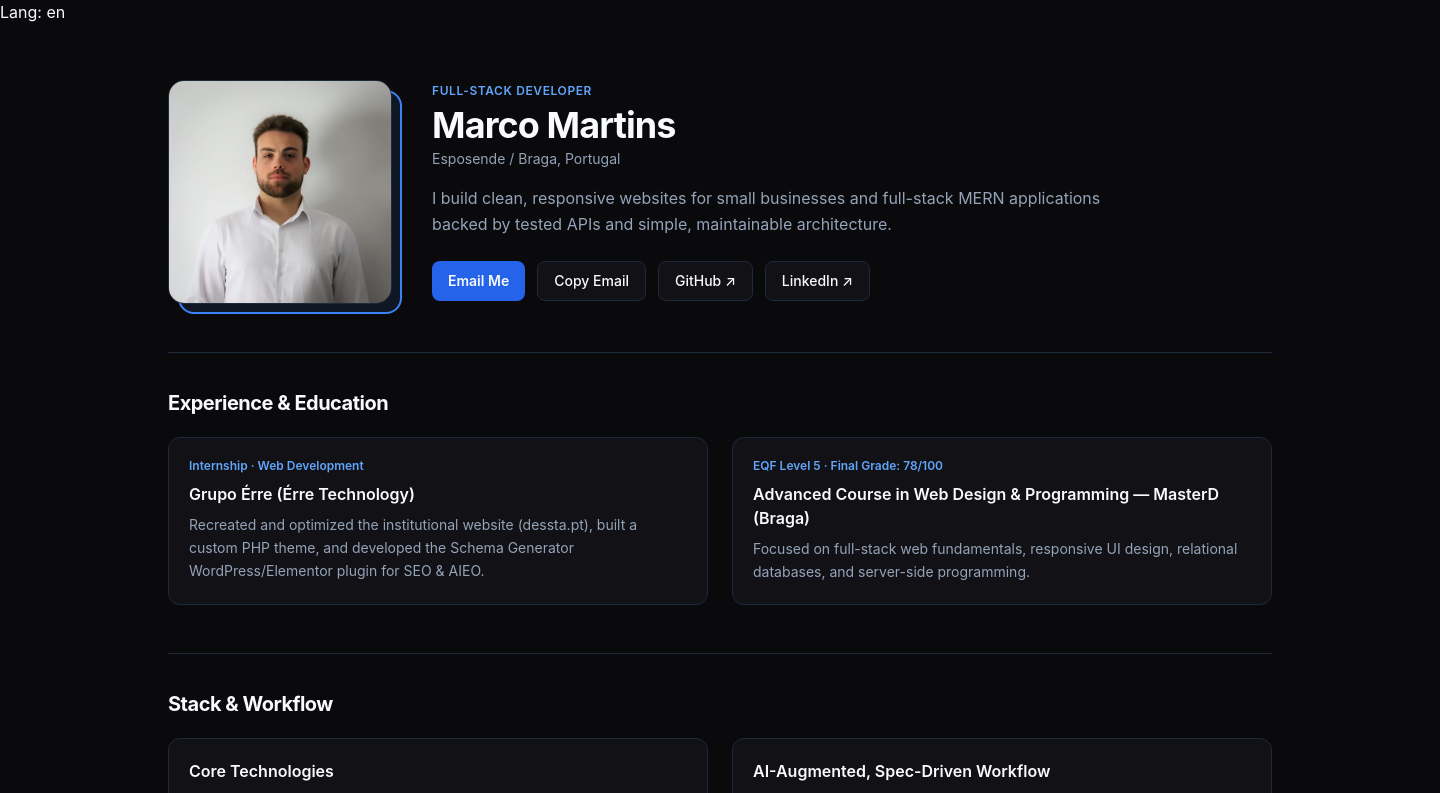
Test case: About › opens email modal defaulted to Full-Stack Role template when Email Me is clicked
Click the button "Email Me" at (479,281), box x1=432 y1=261 x2=525 y2=301
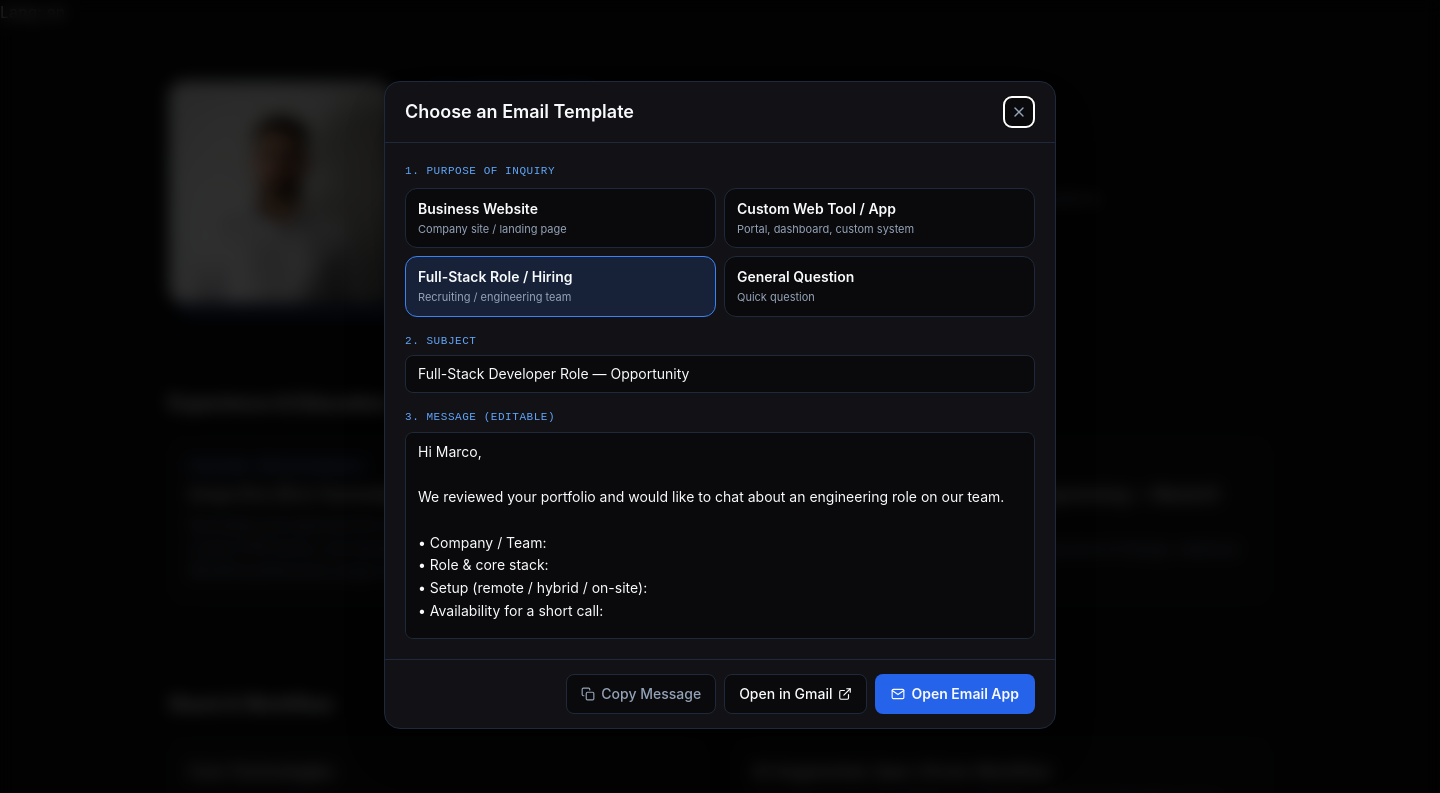
Expected: the heading "Choose an Email Template" is shown, x1=405 y1=98 x2=634 y2=126
Expected: the field labelled "2. Subject" holds "Full-Stack Developer Role — Opportunity", x1=405 y1=355 x2=1035 y2=393
